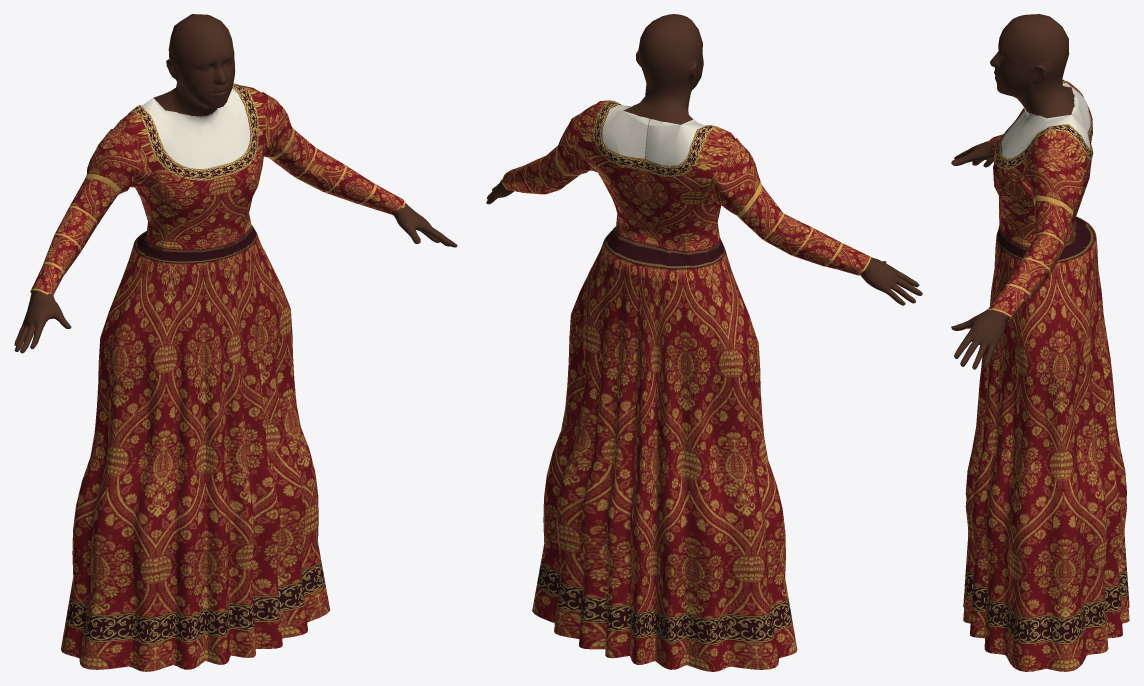
Rendered from pomegranate.glb.
3 views of the same model, side by side, from view 1: azimuth 30°, elevation 25°; view 2: azimuth 150°, elevation 25°; view 3: azimuth 270°, elevation 25° (orthographic). The views are drawn at different scales.
Parts seen in each view (by area): view 1: article-1/outer_fabric, article-1/bodice_fabric, Reference wearer, article-3/outer_fabric, article-0/outer_fabric, article-2/outer_fabric, article-1/edge_binding; view 2: article-1/outer_fabric, article-1/bodice_fabric, Reference wearer, article-3/outer_fabric, article-0/outer_fabric, article-2/outer_fabric, article-1/edge_binding; view 3: article-1/outer_fabric, Reference wearer, article-2/outer_fabric, article-1/bodice_fabric, article-0/outer_fabric, article-1/edge_binding, article-2/constriction_band.
Boxes of the visible parts, <box> form: article-1/outer_fabric: <box>61,224,330,671</box>; article-1/bodice_fabric: <box>113,85,267,249</box>; Reference wearer: <box>14,14,457,353</box>; article-3/outer_fabric: <box>31,129,151,294</box>; article-0/outer_fabric: <box>142,88,250,168</box>; article-2/outer_fabric: <box>262,92,403,214</box>; article-1/edge_binding: <box>127,83,258,180</box>; article-1/outer_fabric: <box>532,226,797,671</box>; article-1/bodice_fabric: <box>577,100,735,251</box>; Reference wearer: <box>486,14,922,305</box>; article-3/outer_fabric: <box>706,138,869,274</box>; article-0/outer_fabric: <box>602,104,705,165</box>; article-2/outer_fabric: <box>502,104,596,194</box>; article-1/edge_binding: <box>593,100,715,176</box>; article-1/outer_fabric: <box>963,216,1129,671</box>; Reference wearer: <box>951,14,1074,369</box>; article-2/outer_fabric: <box>988,148,1085,318</box>; article-1/bodice_fabric: <box>993,79,1091,247</box>; article-0/outer_fabric: <box>1001,83,1090,158</box>; article-1/edge_binding: <box>995,80,1093,169</box>; article-2/constriction_band: <box>988,195,1073,320</box>.
Bounding box in the file's own units: 1.28 × 1.73 × 0.4651.
11 materials, 6 textured.
